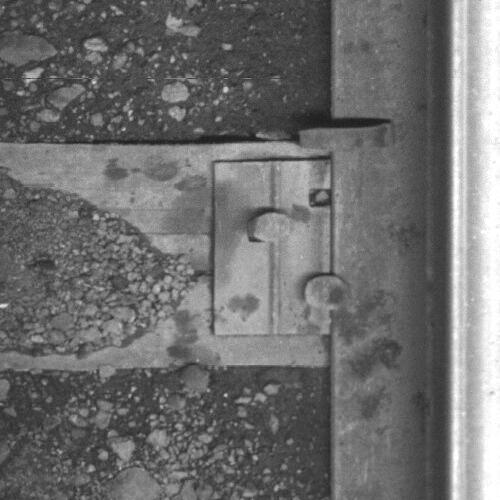crutch: (297, 123, 395, 152)
do: (211, 155, 353, 334)
hole_do: (301, 177, 345, 216)
rail: (449, 1, 500, 500)
tie_wood_ballast: (1, 143, 329, 368)
